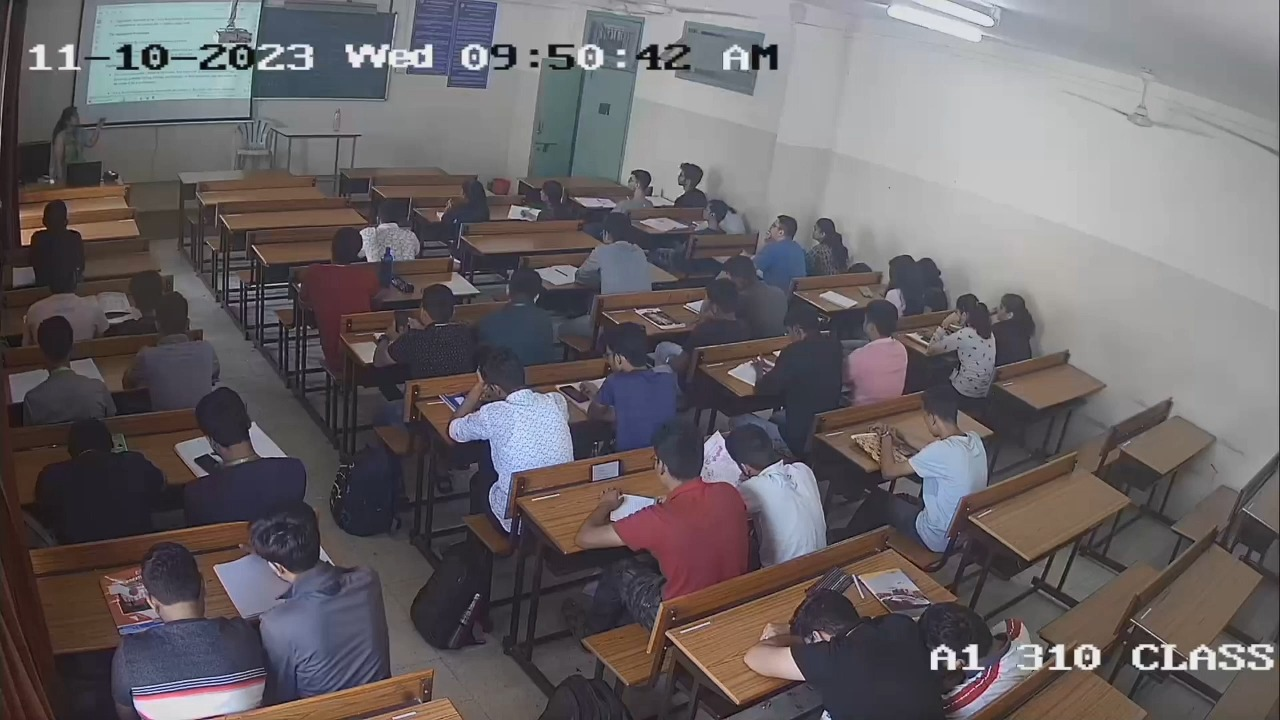cell-phones: (589, 457, 622, 482), (193, 453, 224, 477), (560, 386, 591, 403), (394, 309, 408, 336)
person: (618, 416, 747, 596), (181, 385, 309, 523), (587, 321, 680, 447), (389, 285, 482, 377)
